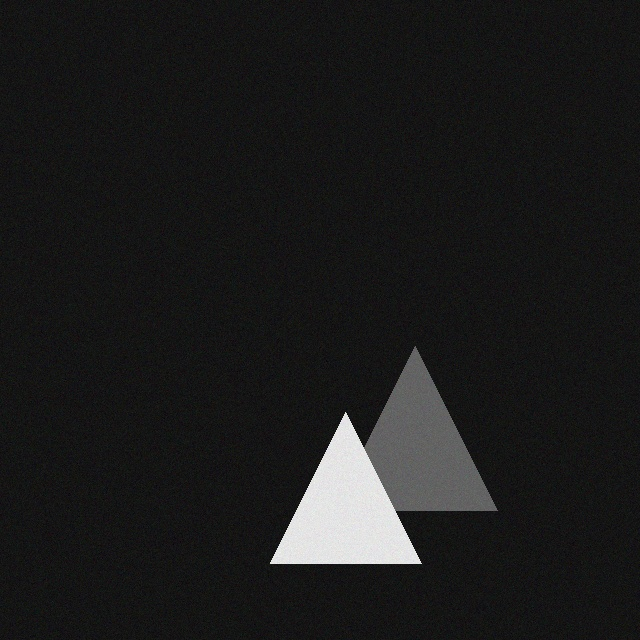triangle: (339, 342, 503, 506), (276, 408, 427, 559)
